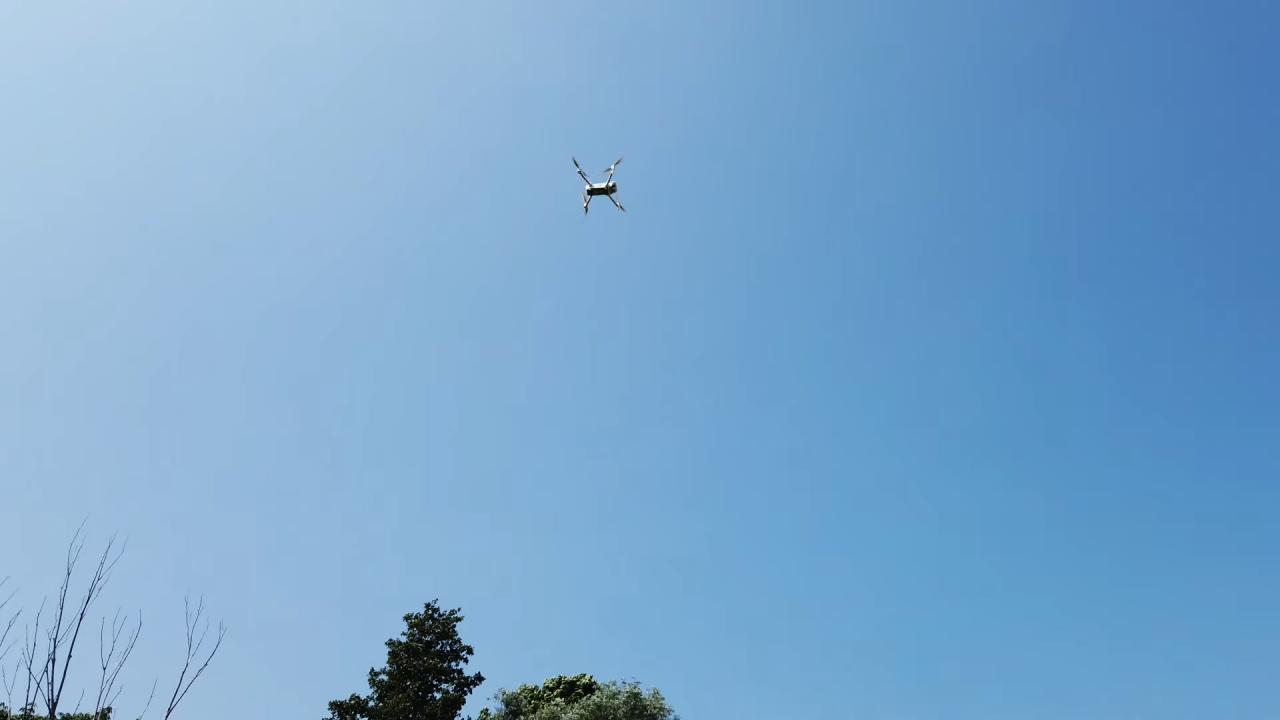Drone: (563, 148, 640, 226)
